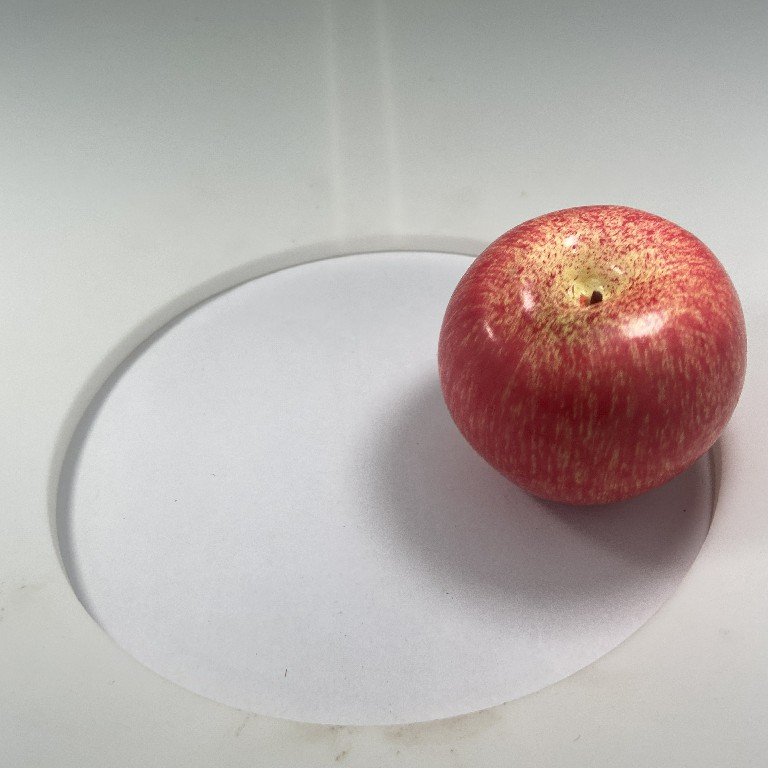fruit_apple: (429, 197, 753, 512)
